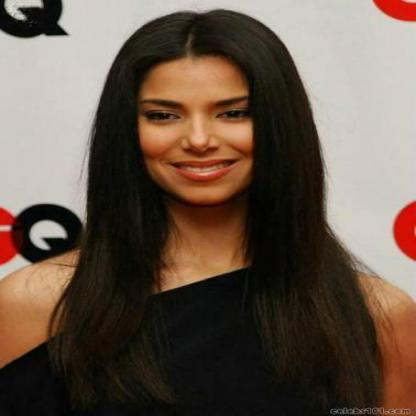long-hair: (74, 208, 338, 257)
